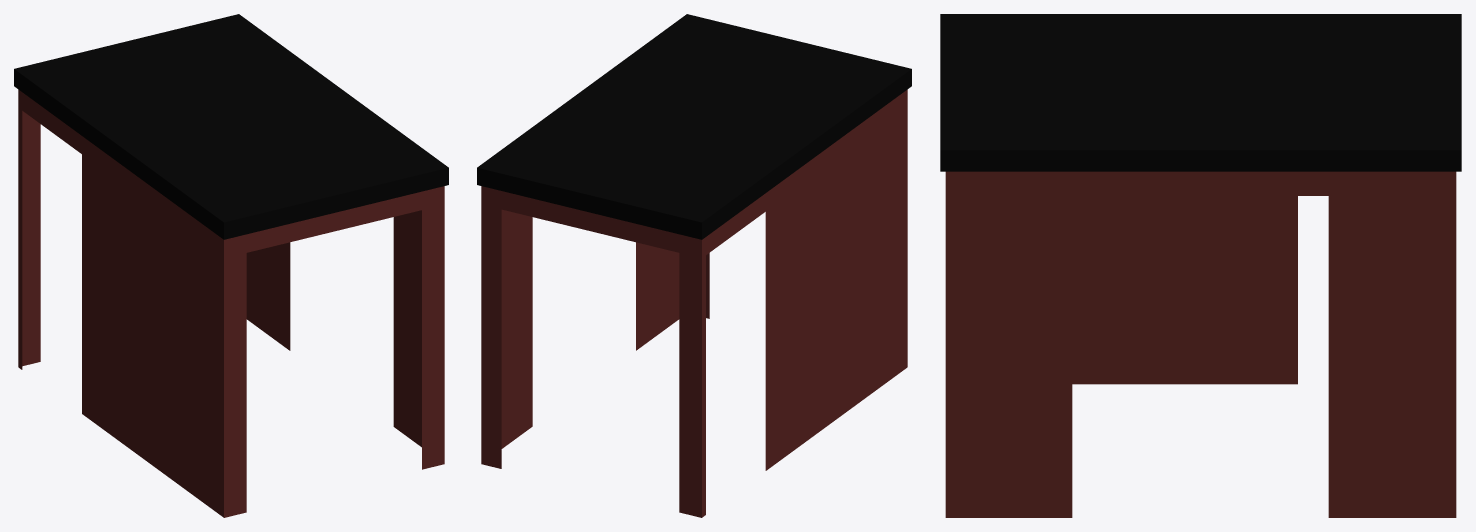
File: Entry.fbx
3 views of the same model, side by side, from view 1: azimuth 30°, elevation 25°; view 2: azimuth 150°, elevation 25°; view 3: azimuth 270°, elevation 25° (orthographic). The views are drawn at different scales.
Visible parts, largest first — view 1: Entry; view 2: Entry; view 3: Entry.
Part boxes in pixels (bbox=[...]): Entry: bbox=[14, 14, 448, 517]; Entry: bbox=[477, 14, 911, 517]; Entry: bbox=[940, 14, 1461, 517].
Bounding box in the file's own units: 190 × 240 × 307.
